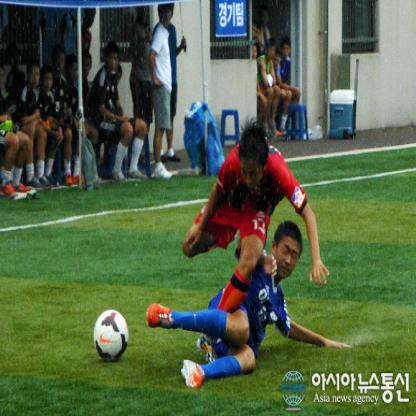Fall_Down: (178, 121, 333, 363)
